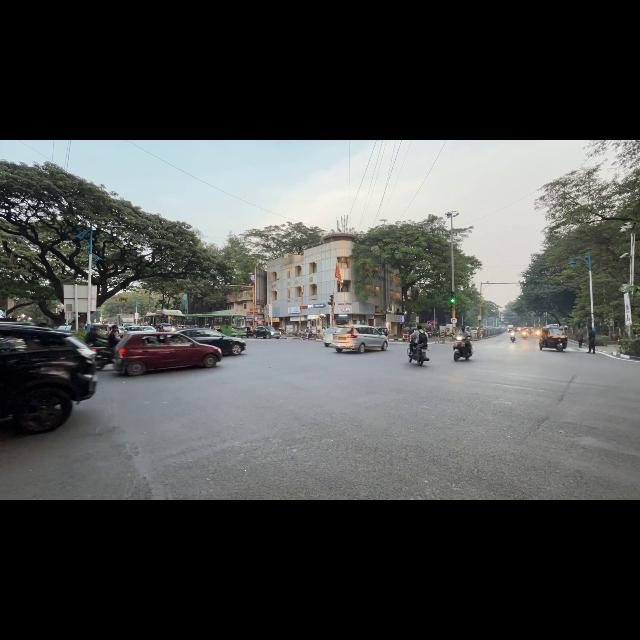bus: (186, 314, 246, 336), (143, 310, 186, 327)
car: (0, 324, 96, 433), (114, 332, 221, 375), (177, 328, 245, 355), (332, 325, 387, 353), (253, 326, 281, 338), (323, 327, 337, 346), (156, 324, 177, 331), (375, 327, 389, 336), (124, 326, 144, 332), (141, 326, 155, 331), (57, 325, 71, 330), (470, 327, 478, 335)
motorcycle: (88, 341, 113, 370), (453, 337, 473, 361), (408, 343, 429, 365), (301, 332, 316, 339), (521, 330, 528, 339), (510, 332, 516, 342)
